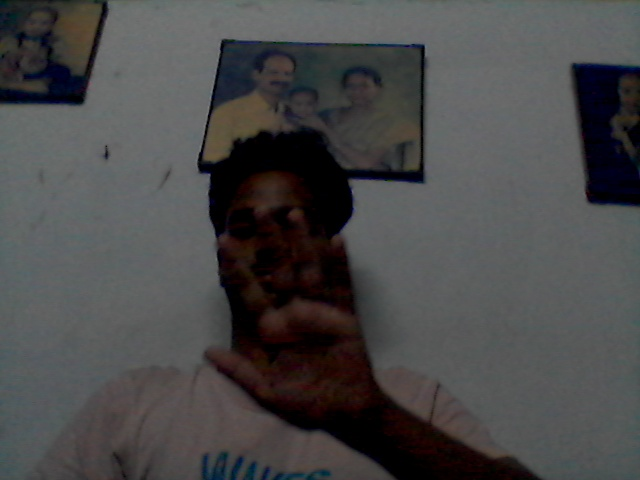Hi: (204, 210, 376, 441)
